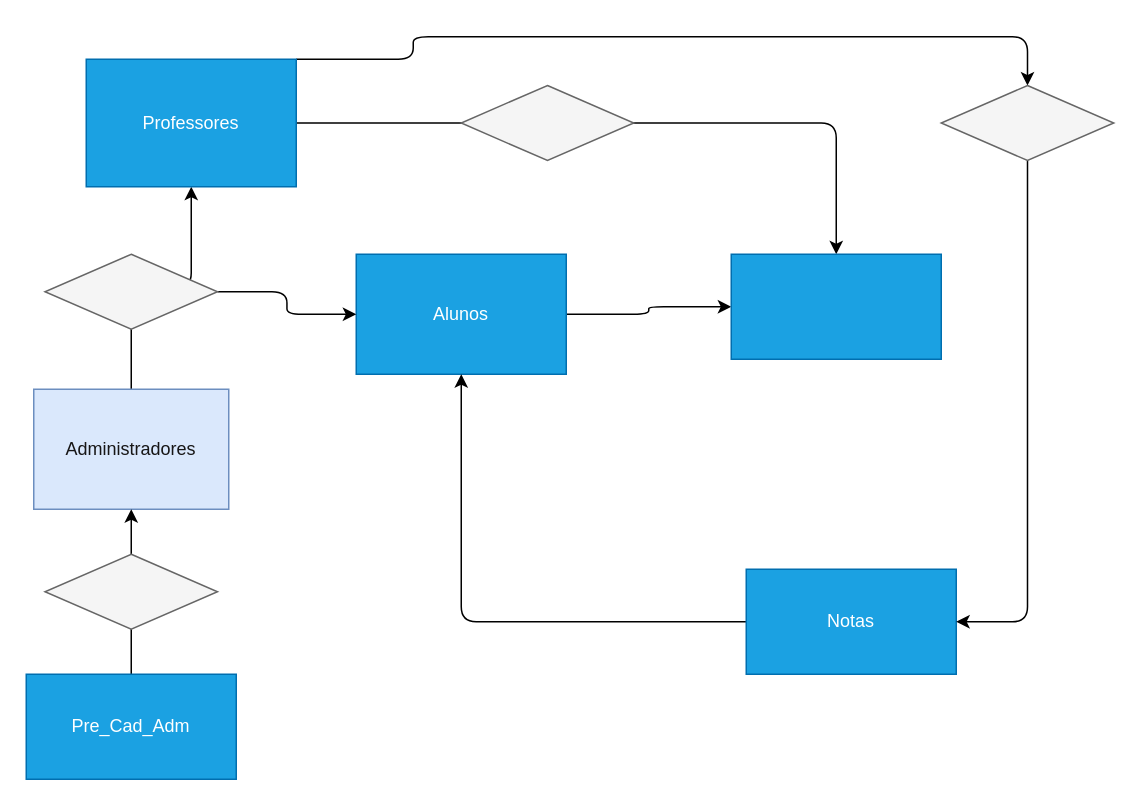
The diagram is 1140 pixels wide and 806 high, and some of its shapes have lost their labels. The box of each missing label's shape, as (x1, y1, x2, y2) in pixels:
Atribui: (940, 84, 1114, 160)
Cadastra: (44, 253, 218, 329)
Disciplinas: (730, 253, 941, 359)
